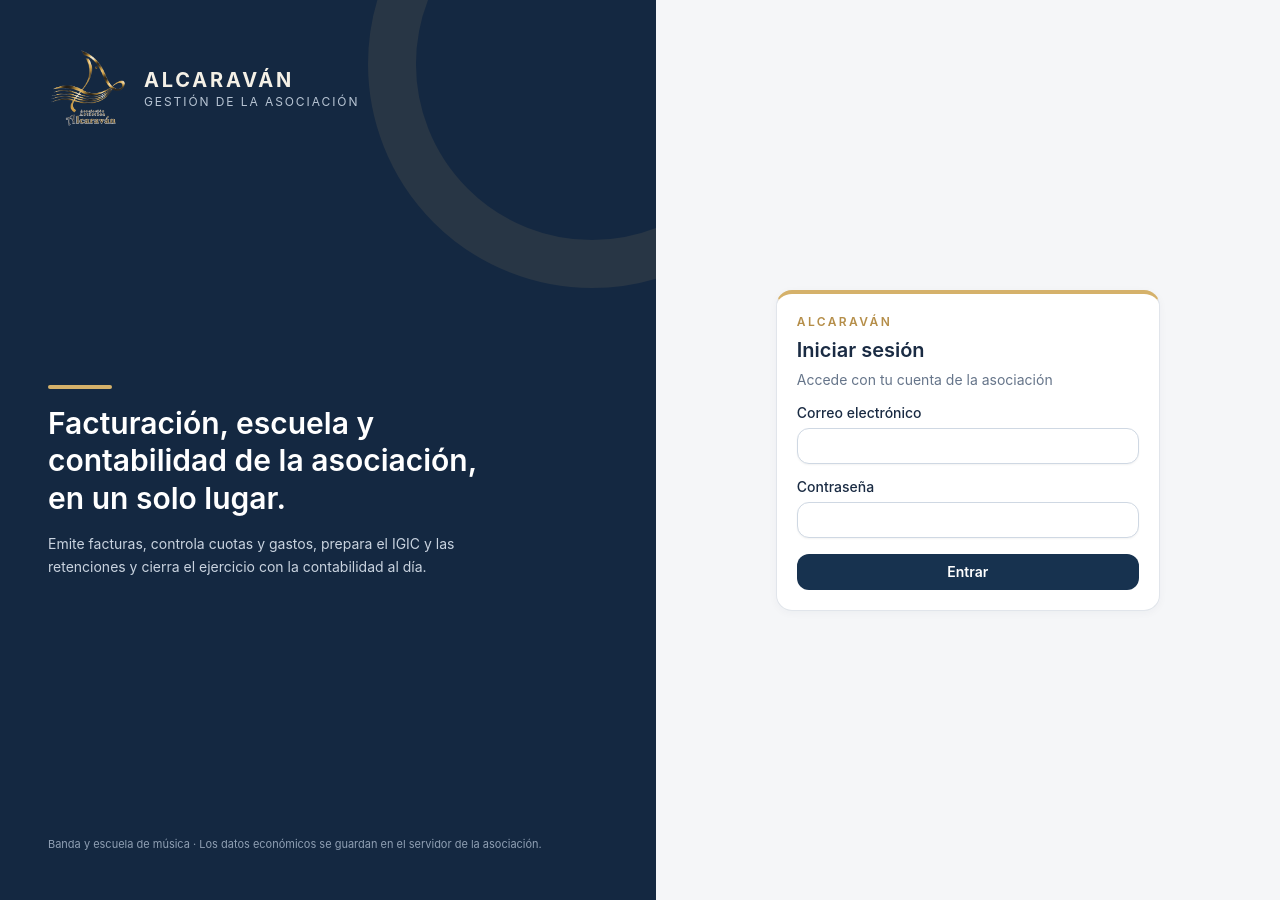
LoginPage › shows a translated message for the API error code
Type "admin@banda.test" into the field labelled "Correo electrónico" at (968,446), box left=797, top=428, right=1139, bottom=464
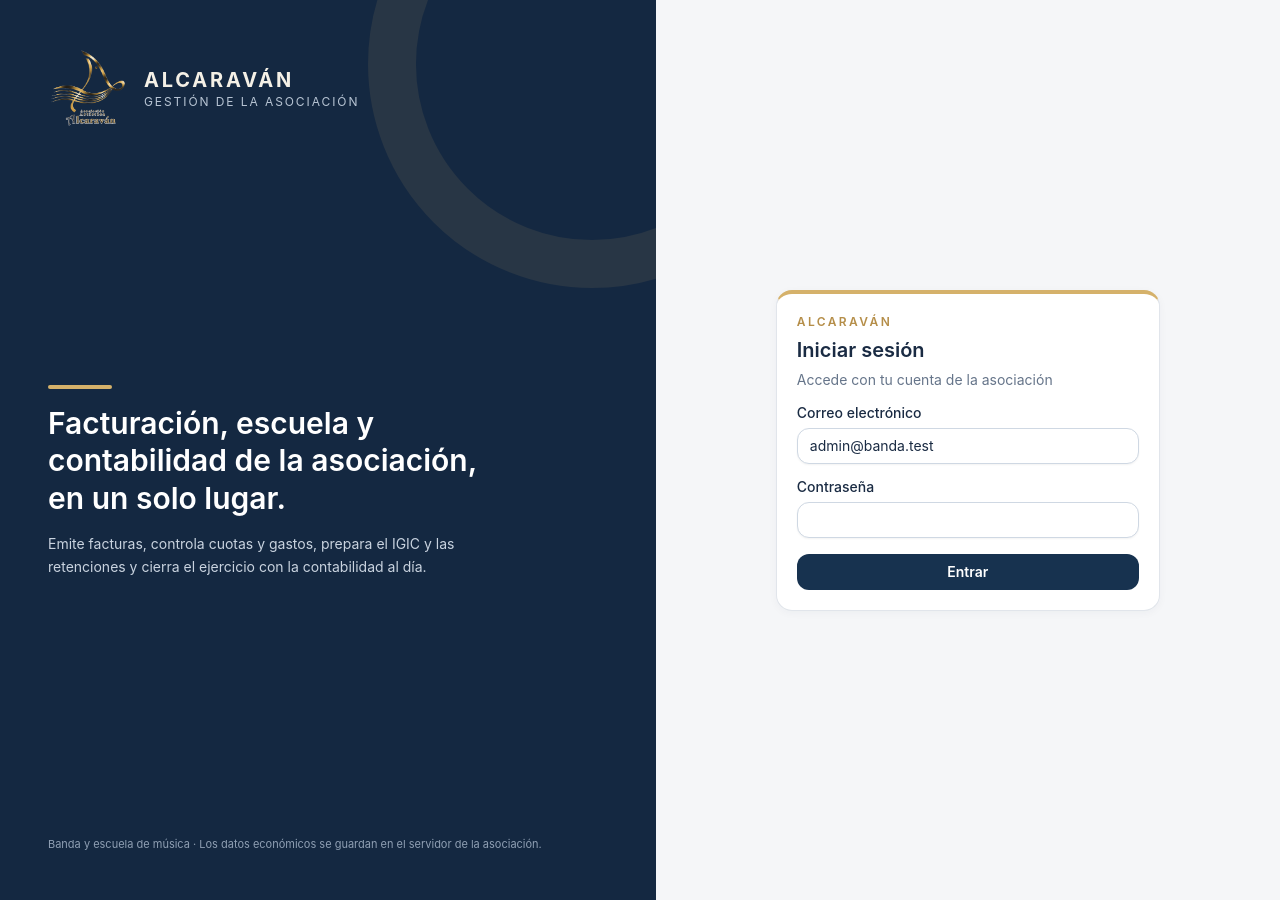
Type "wrong" into the password field labelled "Contraseña" at (968,520), box left=797, top=502, right=1139, bottom=538
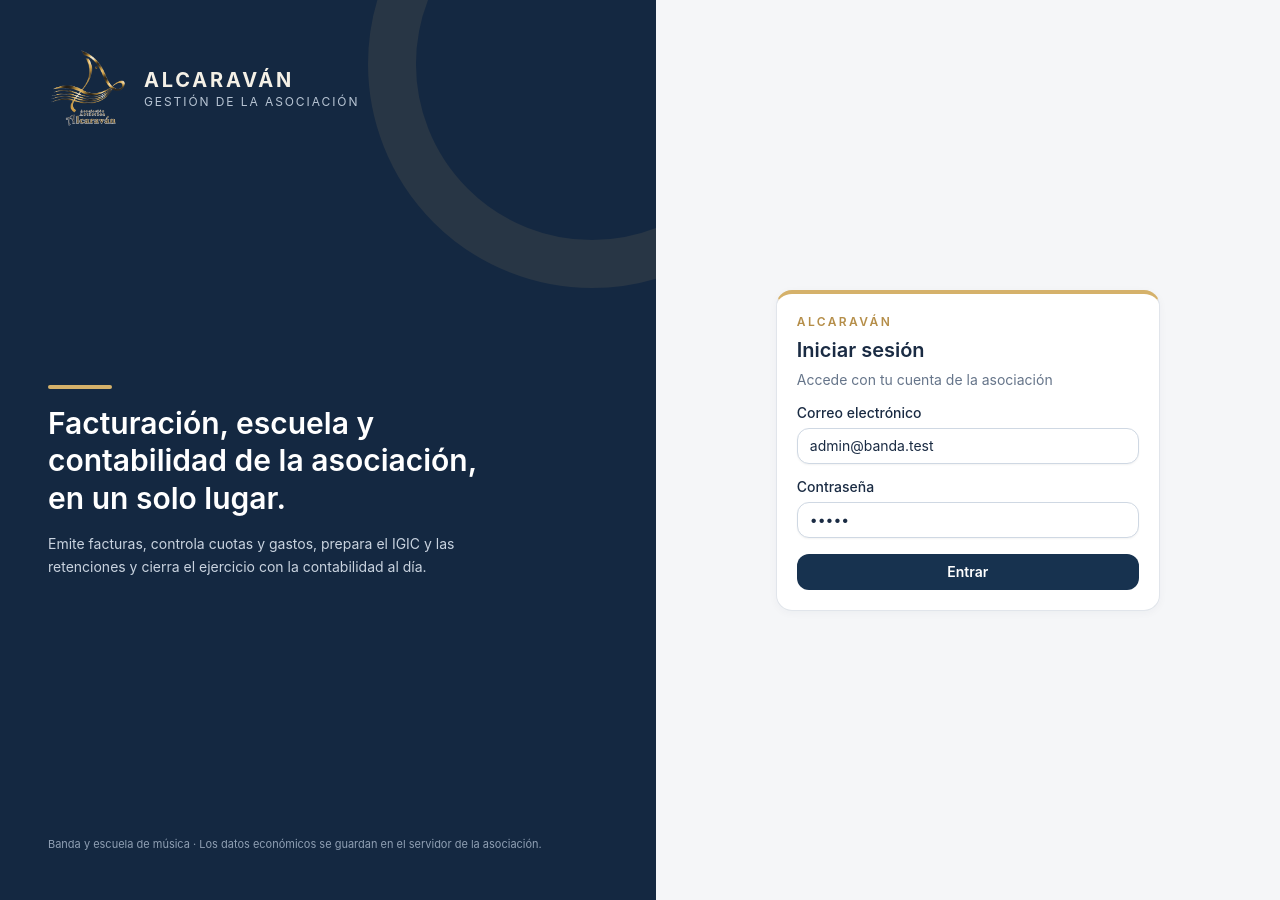
Click the button "Entrar" at (968,572), box left=797, top=554, right=1139, bottom=590
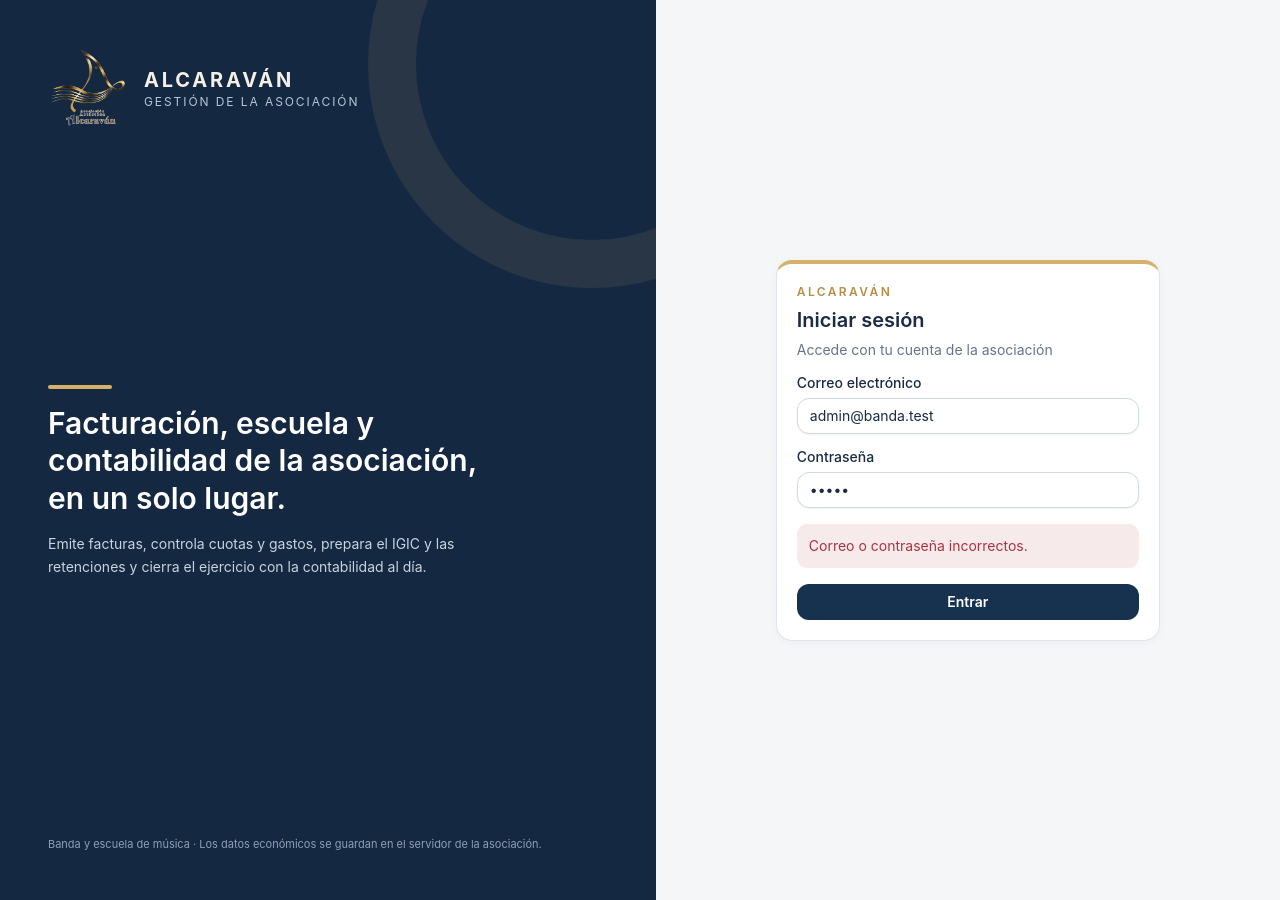
Check: the message reads "Correo o contraseña incorrectos.", box left=809, top=536, right=1028, bottom=554
